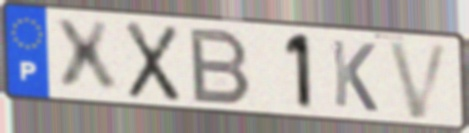1: (282, 32, 315, 114)
B: (188, 26, 255, 107)
K: (329, 36, 381, 115)
V: (384, 38, 455, 121)
X: (49, 18, 122, 96), (123, 18, 182, 105)
